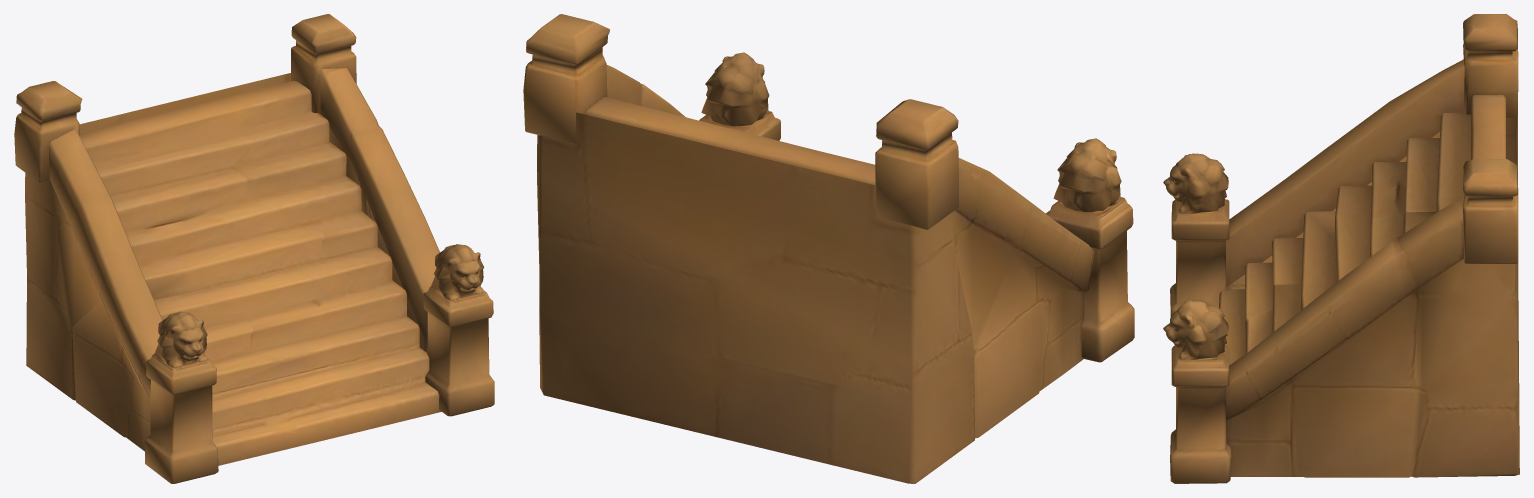
The model's file is SM_Tripo_DesertStairs.glb.
3 renders of one model, left to right at view 1: azimuth 30°, elevation 25°; view 2: azimuth 150°, elevation 25°; view 3: azimuth 270°, elevation 25°, orthographic. The views are drawn at different scales.
Parts seen in each view (by area): view 1: SM_Tripo_DesertStairs_LOD0; view 2: SM_Tripo_DesertStairs_LOD0; view 3: SM_Tripo_DesertStairs_LOD0.
Part boxes in pixels (x1=…): SM_Tripo_DesertStairs_LOD0: x1=14, y1=14, x2=494, y2=483; SM_Tripo_DesertStairs_LOD0: x1=523, y1=14, x2=1134, y2=483; SM_Tripo_DesertStairs_LOD0: x1=1163, y1=14, x2=1519, y2=483.
Bounding box in the file's own units: 3.61 × 3 × 3.17.
Materials: 1 (1 with a texture image).
